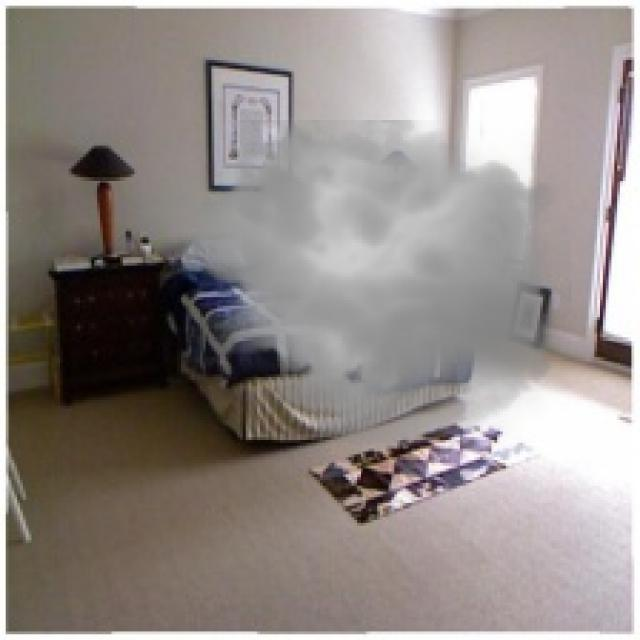smoke: (177, 103, 572, 460)
